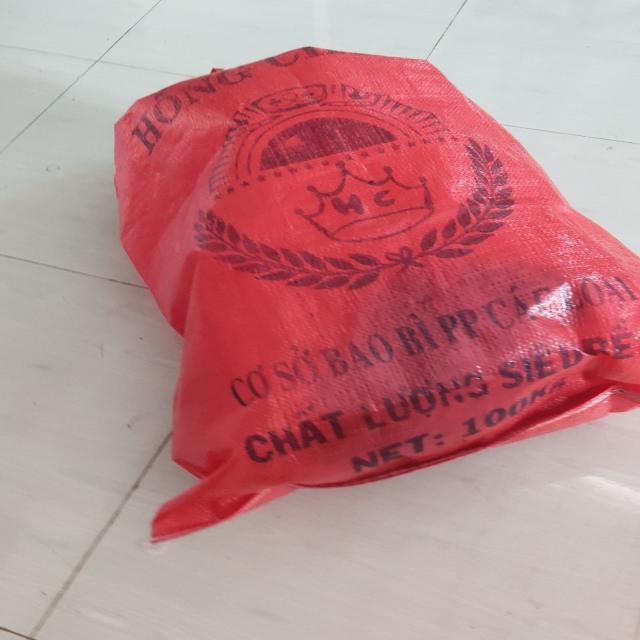gunny_bag: (114, 46, 640, 543)
